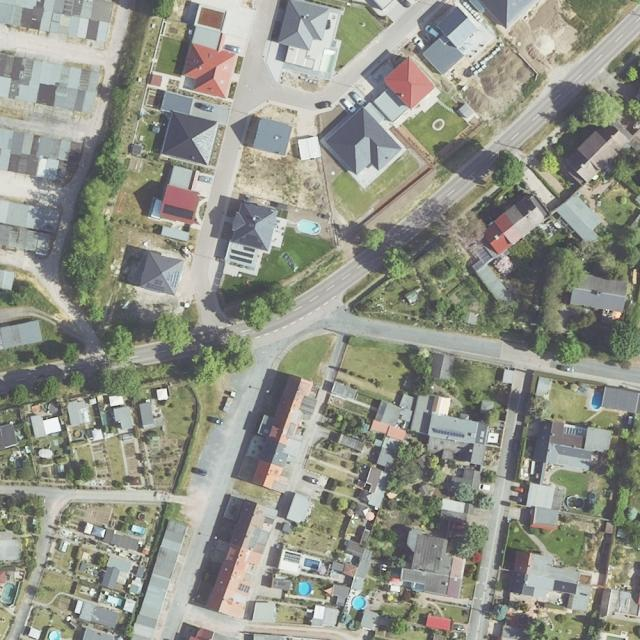PV: (163, 204, 194, 220), (229, 247, 254, 263), (433, 429, 465, 438), (240, 235, 262, 248), (166, 271, 180, 288), (146, 279, 164, 292), (302, 557, 320, 569), (238, 583, 250, 593)
